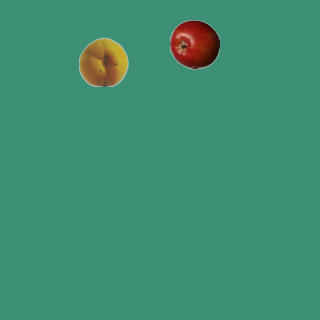Apple Braeburn: (169, 19, 219, 69)
Peach 2: (78, 36, 128, 86)
